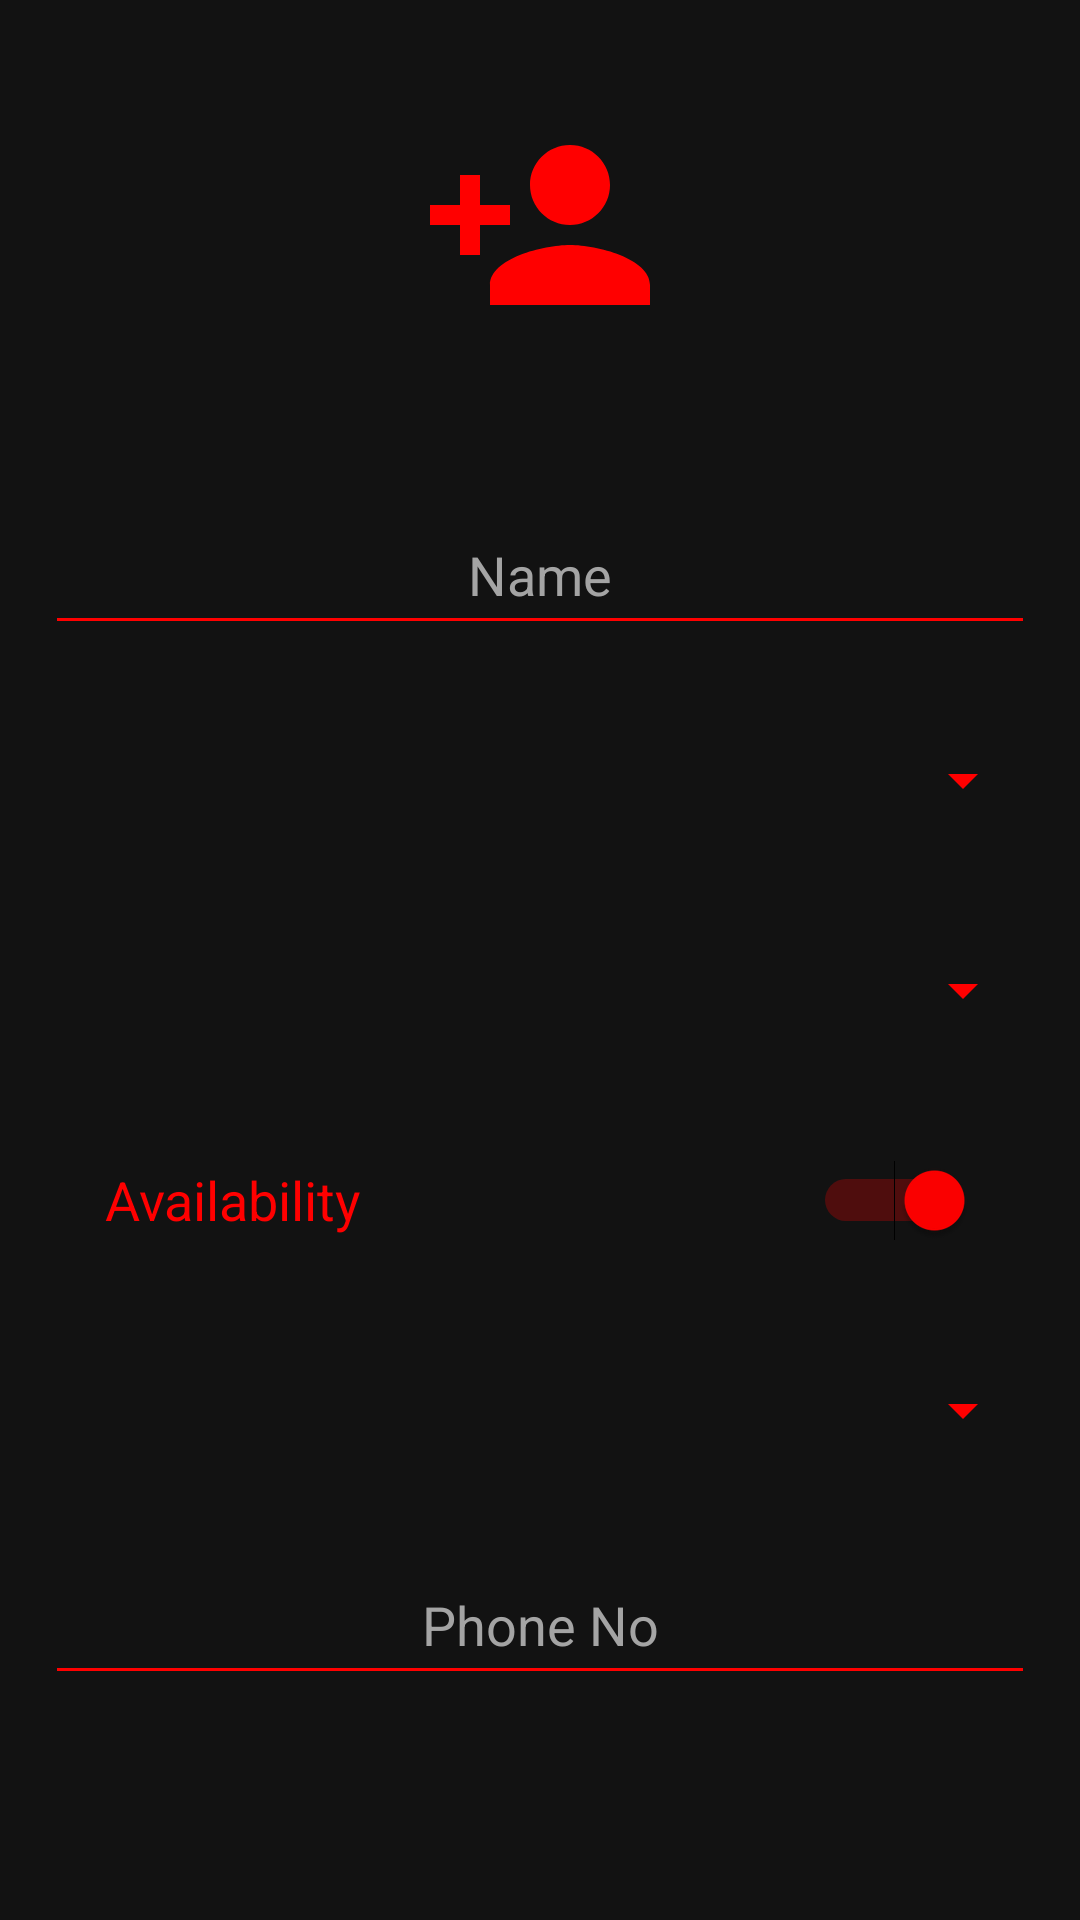

Point at icon controls on the screen. Image size 1080×1920, points as [x,y].
add donor: [540,225]
